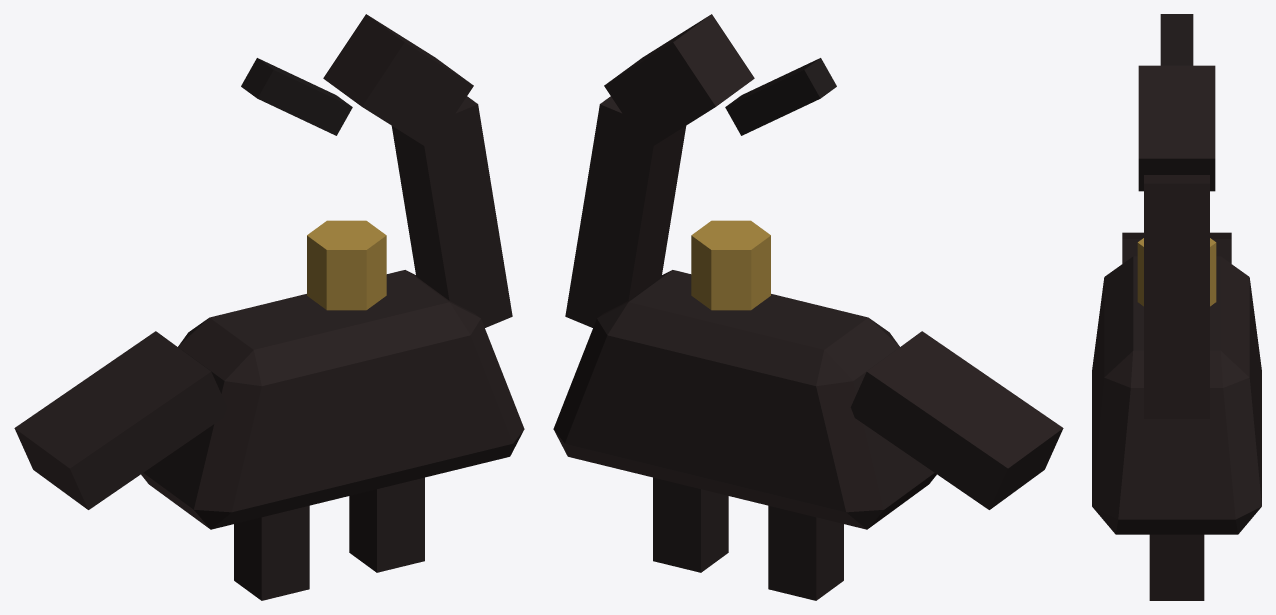
Rendered from sculpture-21.glb.
3 renders of one model, left to right at view 1: azimuth 30°, elevation 25°; view 2: azimuth 150°, elevation 25°; view 3: azimuth 270°, elevation 25°, orthographic.
Parts seen in each view (by area): view 1: sculpture_21; view 2: sculpture_21; view 3: sculpture_21.
Boxes of the visible parts, x1,y1,x2,y2 form: sculpture_21: [14, 14, 524, 600]; sculpture_21: [553, 14, 1063, 600]; sculpture_21: [1092, 14, 1261, 600].
Size of the model in its own units: 0.3041 by 0.3388 by 0.0998.
